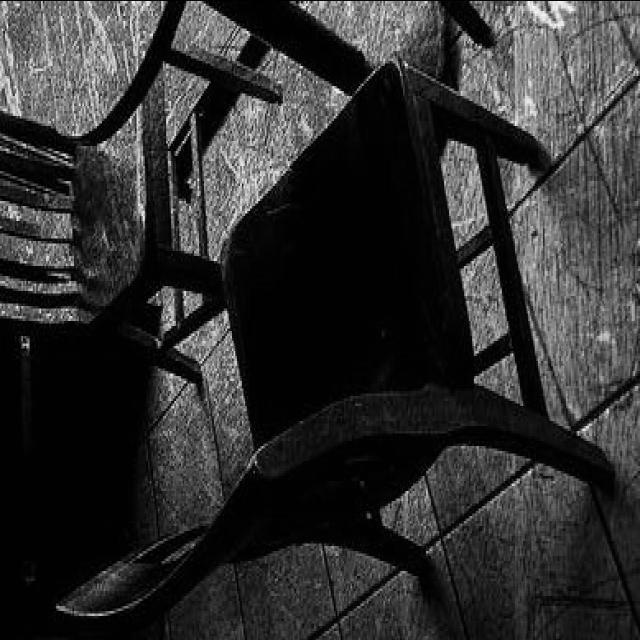chair: (41, 62, 614, 638), (0, 54, 289, 390)
